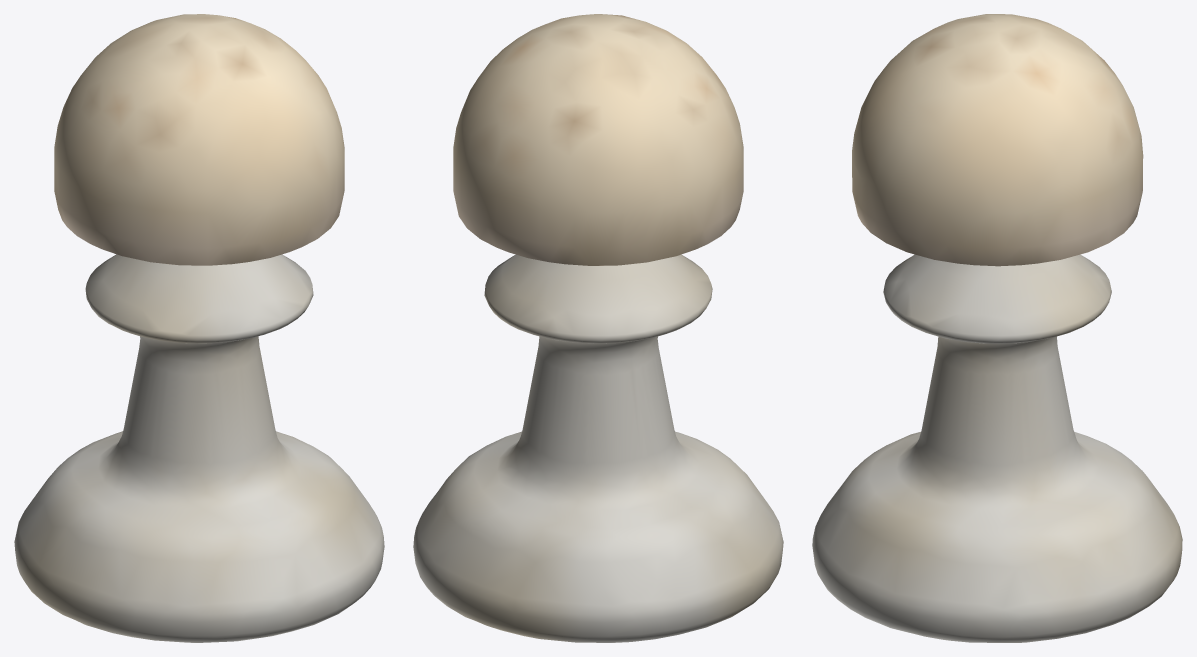
The model's file is pawn-light.glb.
3 renders of one model, left to right at view 1: azimuth 30°, elevation 25°; view 2: azimuth 150°, elevation 25°; view 3: azimuth 270°, elevation 25°, orthographic.
Visible parts, largest first — view 1: body; view 2: body; view 3: body.
Part boxes in pixels (x1,y1,x2,y2): body: (14,14,384,642); body: (413,14,783,642); body: (812,14,1182,642).
Bounding box in the file's own units: 1.73 × 2.83 × 1.73.
